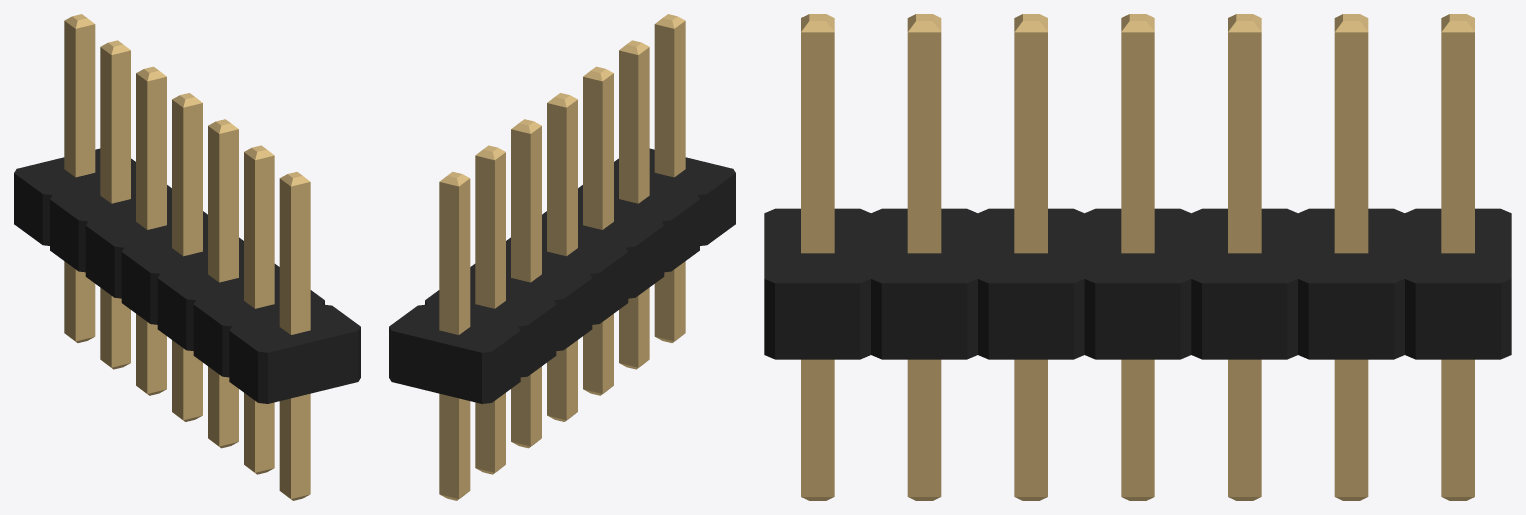
Rendered from PinHeader_1x07_P1.27mm_Vertical.glb.
3 renders of one model, left to right at view 1: azimuth 30°, elevation 25°; view 2: azimuth 150°, elevation 25°; view 3: azimuth 270°, elevation 25°, orthographic. The views are drawn at different scales.
Visible parts, largest first — view 1: =>[0:1:1:3]; view 2: =>[0:1:1:3]; view 3: =>[0:1:1:3].
Part boxes in pixels (bbox=[...]): =>[0:1:1:3]: bbox=[14, 14, 360, 500]; =>[0:1:1:3]: bbox=[389, 14, 735, 500]; =>[0:1:1:3]: bbox=[764, 14, 1511, 500].
Bounding box in the file's own units: 0.0021 × 0.0063 × 0.00889.
